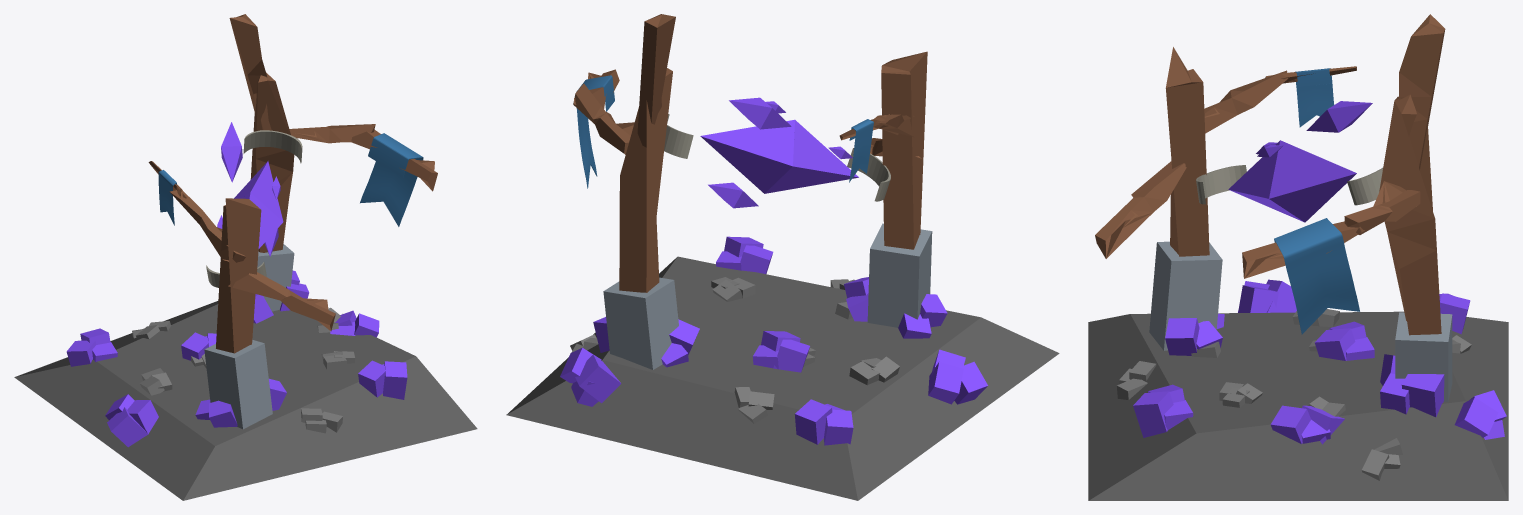
File: MagicTower-lvl2.fbx
3 renders of one model, left to right at view 1: azimuth 30°, elevation 25°; view 2: azimuth 150°, elevation 25°; view 3: azimuth 270°, elevation 25°, orthographic. The views are drawn at different scales.
Visible parts, largest first — view 1: Куб, Куб.003, Куб.002, Куб.004, Plane.009_feather_0, Куб.007, Куб.010, Cone.007, Куб.001, Cone.001, Куб.005, Куб.009 (+10 smaller); view 2: Куб, Куб.003, Куб.004, Cone.007, Куб.001, Куб.002, Куб.010, Cone.001, Куб.005, Plane.009_feather_0, Куб.021, Куб.030 (+12 smaller); view 3: Куб, Куб.004, Куб.003, Plane.009_feather_0, Cone.007, Куб.002, Куб.010, Куб.001, Куб.007, Куб.005, Куб.009, Plane.009_feather_0.001 (+19 smaller).
Part boxes in pixels (box(x1,y1,x2,y2)): Куб: box(14, 301, 477, 500); Куб.003: box(216, 198, 261, 353); Куб.002: box(204, 340, 272, 429); Куб.004: box(250, 72, 294, 252); Plane.009_feather_0: box(360, 133, 423, 226); Куб.007: box(228, 272, 335, 331); Куб.010: box(229, 14, 271, 130); Cone.007: box(234, 161, 283, 248); Куб.001: box(257, 244, 294, 311); Cone.001: box(217, 122, 280, 256); Куб.005: box(289, 124, 375, 143); Куб.009: box(169, 189, 245, 262); Куб: box(506, 256, 1059, 500); Куб.003: box(881, 51, 927, 249); Куб.004: box(619, 68, 672, 292); Cone.007: box(700, 119, 858, 193); Куб.001: box(603, 277, 678, 369); Куб.002: box(867, 223, 932, 327); Куб.010: box(637, 14, 675, 147); Cone.001: box(708, 97, 852, 208); Куб.005: box(573, 83, 634, 154); Plane.009_feather_0: box(576, 75, 614, 188); Куб.021: box(575, 354, 621, 403); Куб.030: box(794, 399, 832, 444); Куб: box(1088, 311, 1508, 500); Куб.004: box(1379, 94, 1441, 335); Куб.003: box(1165, 47, 1209, 256); Plane.009_feather_0: box(1274, 218, 1359, 334); Cone.007: box(1228, 140, 1356, 222); Куб.002: box(1149, 241, 1222, 350); Куб.010: box(1399, 14, 1445, 170); Куб.001: box(1395, 312, 1452, 401); Куб.007: box(1095, 161, 1186, 258); Куб.005: box(1344, 181, 1420, 234); Куб.009: box(1204, 70, 1288, 133); Plane.009_feather_0.001: box(1295, 68, 1334, 127).
Size of the model in its own units: 897 by 878 by 797.
